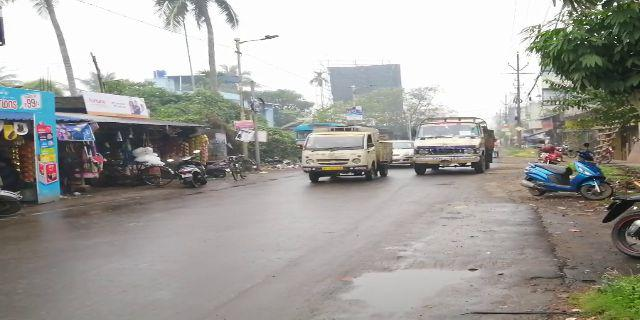Minitruck: (303, 132, 393, 180)
Motorbike: (522, 159, 614, 197)
Truck: (416, 121, 496, 173)
